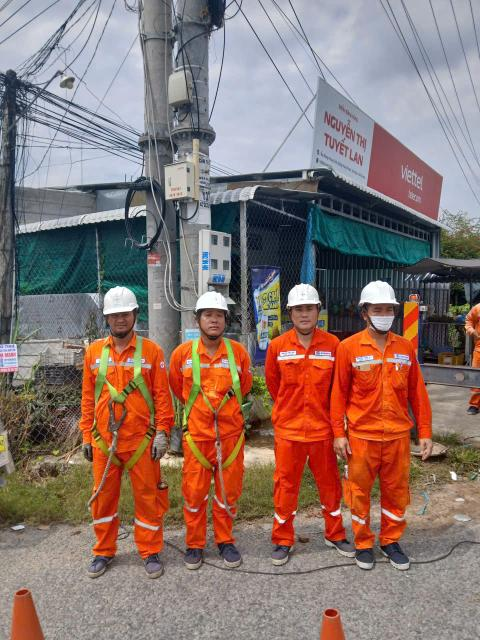gloves: (77, 437, 101, 472), (144, 432, 171, 462)
harness: (179, 369, 251, 475), (80, 375, 150, 461)
shoes: (98, 277, 142, 327), (275, 275, 323, 314), (186, 281, 232, 319), (354, 275, 398, 313), (382, 535, 414, 577), (138, 545, 167, 587), (216, 535, 244, 573), (83, 546, 115, 579), (323, 530, 358, 559), (349, 534, 373, 575), (178, 538, 202, 574), (267, 527, 287, 568)
